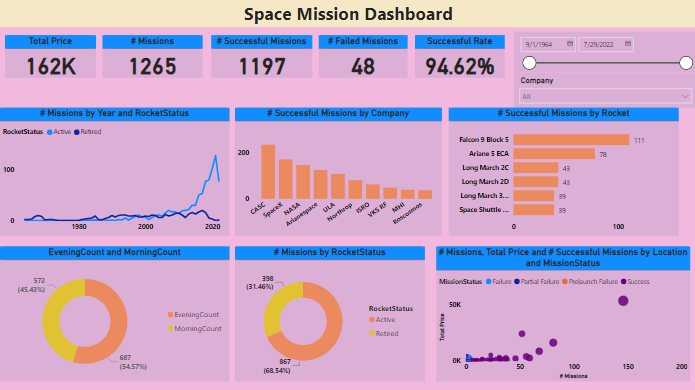

Layout of this report page (visuals, bound fields, positions):
{"tool":"powerbi","page":{"name":"Page 1","canvas":[1280,720],"ordinal":0},"visuals":[{"type":"lineChart","fields":{"Y":["_DAX Measures.# Missions"],"Category":["Space Missions.Date.Variation.Date Hierarchy.Year","Space Missions.Date.Variation.Date Hierarchy.Quarter","Space Missions.Date.Variation.Date Hierarchy.Month","Space Missions.Date.Variation.Date Hierarchy.Day"],"Series":["Space Missions.RocketStatus"]},"box":[0,199,430.9,236],"z":0},{"type":"donutChart","fields":{"Y":["_DAX Measures.EveningCount","_DAX Measures.MorningCount"]},"box":[0,452.8,373.2,248.4],"z":1000},{"type":"columnChart","fields":{"Category":["Space Missions.Company"],"Y":["_DAX Measures.# Successful Missions"]},"box":[441.9,199,389.7,236],"z":2000},{"type":"donutChart","fields":{"Y":["_DAX Measures.# Missions"],"Category":["Space Missions.RocketStatus"]},"box":[387,452.8,370.5,248.4],"z":3000},{"type":"barChart","fields":{"Category":["Space Missions.Rocket"],"Y":["_DAX Measures.# Successful Missions"]},"box":[845.3,199,422.6,236],"z":4000},{"type":"scatterChart","title":"# Missions, Total Price and # Successful Missions by Location and MissionStatus","fields":{"Category":["Space Missions.Location"],"Series":["Space Missions.MissionStatus"],"X":["_DAX Measures.# Missions"],"Y":["_DAX Measures.Total Price"],"Size":["_DAX Measures.# Successful Missions"]},"box":[773.9,452.8,494,248.4],"z":5000},{"type":"card","title":"Total Price","fields":{"Values":["_DAX Measures.Total Price"]},"box":[9.6,67.2,167.4,78.2],"z":6000},{"type":"textbox","box":[0,0,1280.3,48],"z":7000},{"type":"card","title":"Successful Rate","fields":{"Values":["_DAX Measures.Successful Rate"]},"box":[763,67.2,164.7,78.2],"z":8000},{"type":"card","title":"# Failed Missions","fields":{"Values":["_DAX Measures.# Failed Missions"]},"box":[584.6,67.2,163.3,78.2],"z":9000},{"type":"card","title":"# Successful Missions","fields":{"Values":["_DAX Measures.# Successful Missions"]},"box":[387,67.2,185.2,78.2],"z":10000},{"type":"card","title":"# Missions","fields":{"Values":["_DAX Measures.# Missions"]},"box":[189.4,67.2,183.9,78.2],"z":11000},{"type":"slicer","fields":{"Values":["Space Missions.Company"]},"box":[942.7,123.5,337.6,64.5],"z":12000},{"type":"slicer","fields":{"Values":["Space Missions.Date"]},"box":[942.7,48,337.6,75.5],"z":13000}]}

Visuals, with their boxes in screenshot pixels (x1, y1, x2, y2), scaled from the page's 1280x720 canvas onto the 695x390 screenshot:
lineChart - _DAX Measures.# Missions x Space Missions.Date.Variation.Date Hierarchy.Year: bbox(0, 108, 234, 236)
donutChart - _DAX Measures.EveningCount x _DAX Measures.MorningCount: bbox(0, 245, 203, 380)
columnChart - Space Missions.Company x _DAX Measures.# Successful Missions: bbox(240, 108, 452, 236)
donutChart - _DAX Measures.# Missions x Space Missions.RocketStatus: bbox(210, 245, 411, 380)
barChart - Space Missions.Rocket x _DAX Measures.# Successful Missions: bbox(459, 108, 688, 236)
"# Missions, Total Price and # Successful Missions by Location and MissionStatus" scatterChart: bbox(420, 245, 688, 380)
"Total Price" card: bbox(5, 36, 96, 79)
textbox: bbox(0, 0, 694, 26)
"Successful Rate" card: bbox(414, 36, 504, 79)
"# Failed Missions" card: bbox(317, 36, 406, 79)
"# Successful Missions" card: bbox(210, 36, 311, 79)
"# Missions" card: bbox(103, 36, 203, 79)
slicer - Space Missions.Company: bbox(512, 67, 694, 102)
slicer - Space Missions.Date: bbox(512, 26, 694, 67)
